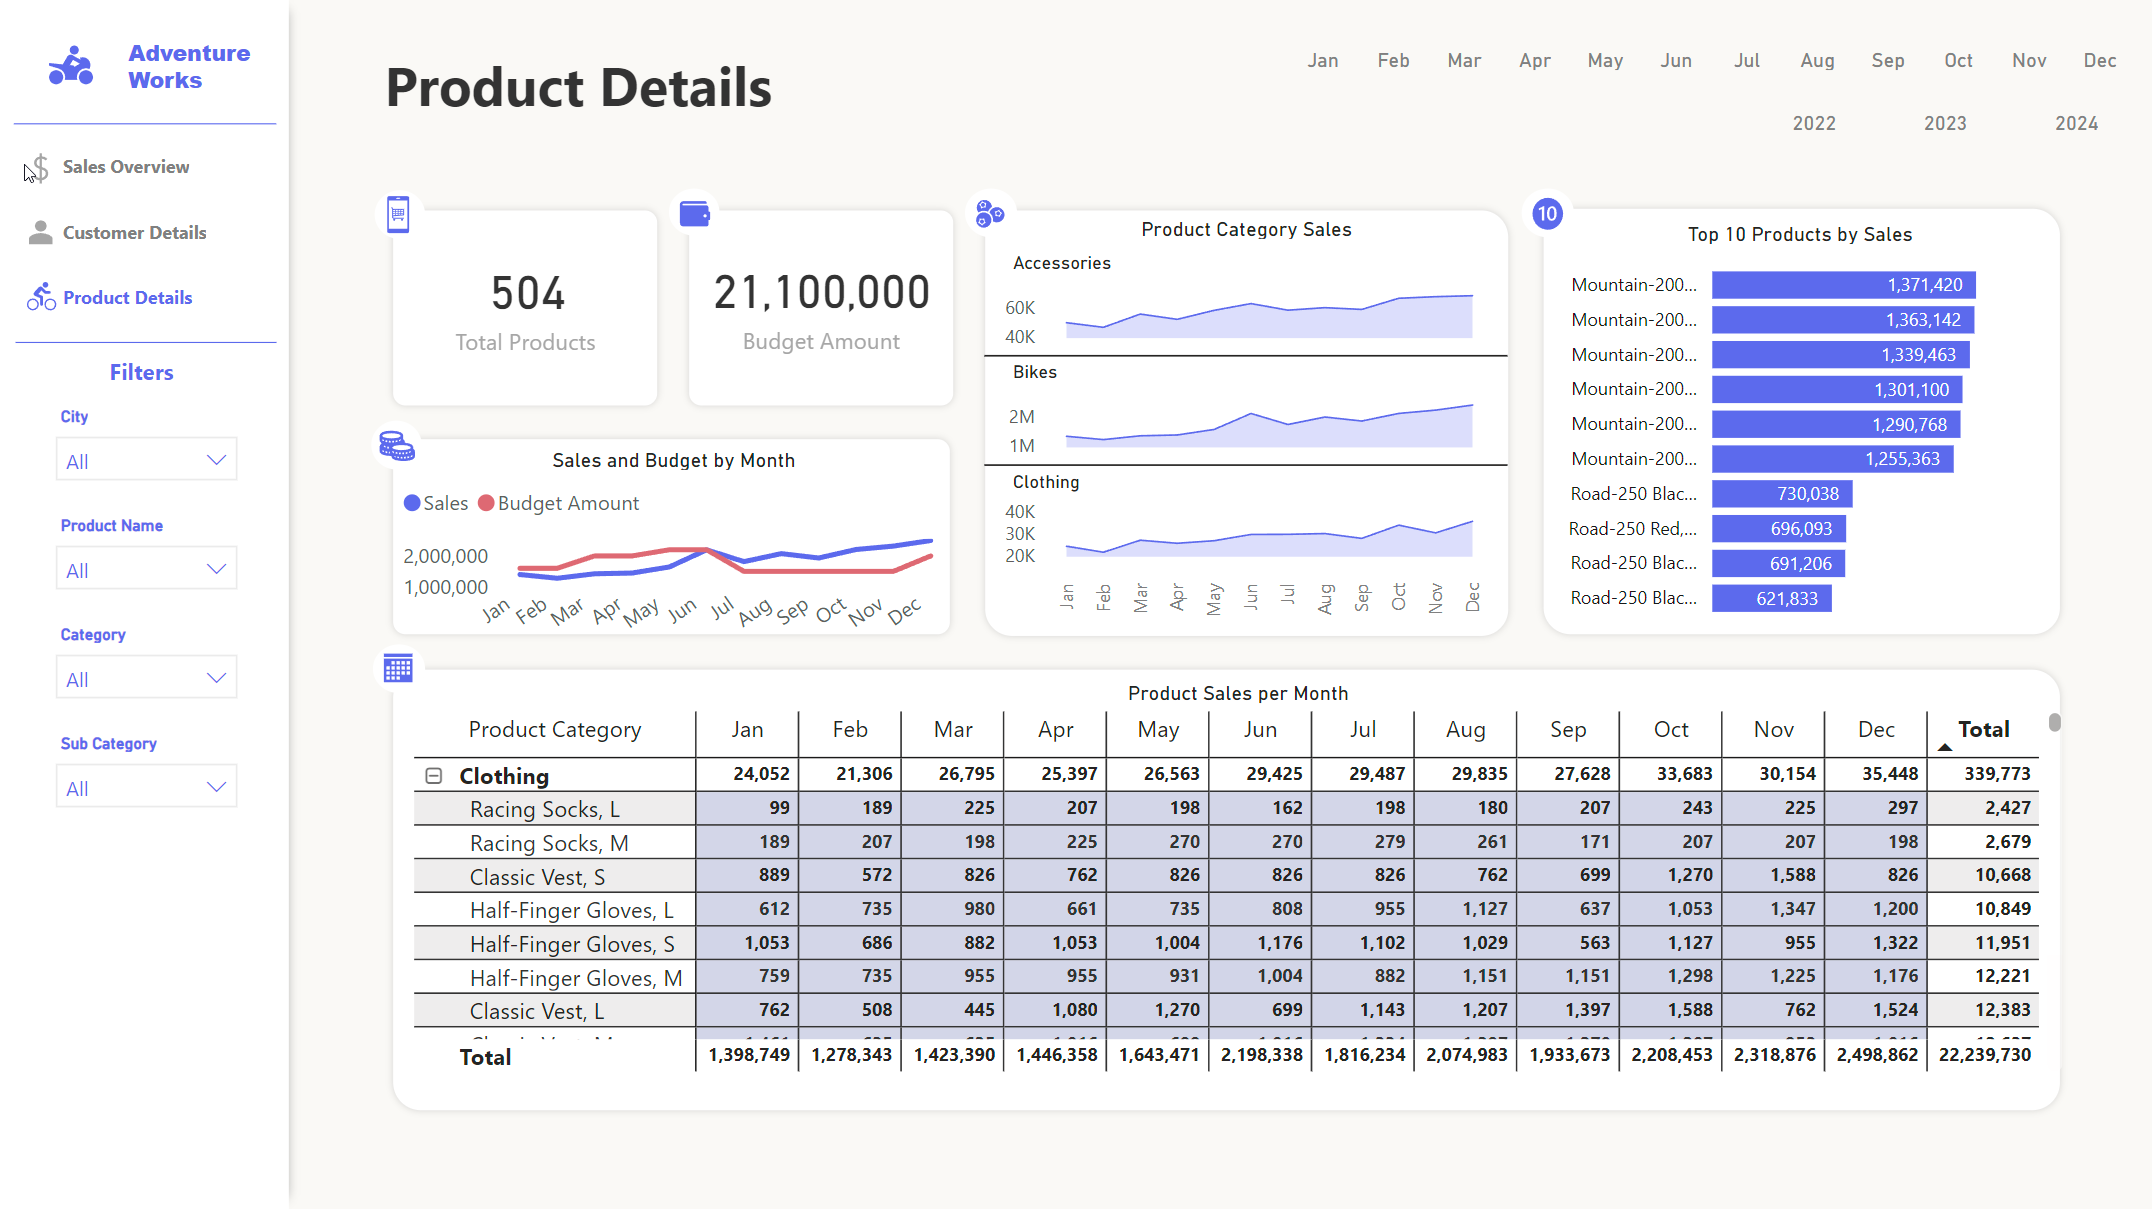

What the dashboard file says about the page in this screenshot:
{"tool":"powerbi","page":{"name":"Product Details","canvas":[1280,720],"ordinal":2},"visuals":[{"type":"shape","box":[389,105.1,156,136.4],"z":0},{"type":"shape","box":[551.6,105.1,347.9,279.4],"z":1000},{"type":"shape","box":[226.5,104.4,156,136.4],"z":2000},{"type":"shape","box":[226.5,247.4,318.5,136.4],"z":3000},{"type":"shape","box":[906,103.8,347.9,279.4],"z":4000},{"type":"shape","box":[226.5,391,1027.4,301.6],"z":5000},{"type":"BBED0A4D4D8D44CE93CF2DAFADEE466C","fields":{"actual":["FACT_InternetSales_CSV.Sales"],"target1":["FACT_Budget.Budget Amount"],"target2":["FACT_Budget.Sales - Budget"]},"box":[554.9,231.2,12.3,12.3],"z":6000},{"type":"lineChart","title":"Sales and Budget by Month","fields":{"Category":["DIM_Calendar_CSV.MonthShort"],"Y":["Key Measures.Sales","Key Measures.Budget Amount"]},"box":[229.1,252.6,311.4,129.2],"z":7000},{"type":"advanceCardE03760C5AB684758B56AA29F9E6C257B","fields":{"mainMeasure":["Count(DIM_Products_CSV.ProductName)"]},"box":[225.8,112.9,157.3,119.4],"z":9000},{"type":"pivotTable","title":"Product Sales per Month","fields":{"Rows":["DIM_Products_CSV.ProductCategory","DIM_Products_CSV.ProductName"],"Columns":["DIM_Calendar_CSV.MonthShort"],"Values":["Key Measures.Sales"]},"box":[229.1,392.9,1018.9,294.4],"z":10000},{"type":"barChart","title":"Top 10 Products by Sales","fields":{"Y":["Key Measures.Sales"],"Category":["DIM_Products_CSV.ProductName"]},"box":[906,104.4,347.9,277.4],"z":11000},{"type":"lineChart","title":"Product Category Sales","fields":{"Y":["Key Measures.Sales"],"Category":["DIM_Calendar_CSV.MonthShort"],"Rows":["DIM_Products_CSV.ProductCategory"]},"box":[554.8,112.9,344.6,270.2],"z":12000},{"type":"advanceCardE03760C5AB684758B56AA29F9E6C257B","fields":{"mainMeasure":["Key Measures.Budget Amount"]},"box":[389,112.9,156.7,120.8],"z":13000},{"type":"shape","box":[0,0,193.9,720],"z":14000},{"type":"shape","box":[31.1,466.1,127.8,58.4],"z":15000},{"type":"shape","box":[31.1,401,127.8,58.4],"z":16000},{"type":"shape","box":[31.1,336.5,127.8,58.4],"z":17000},{"type":"slicer","fields":{"Values":["DIM_Customers_CSV.CustomerCity"]},"box":[31.1,270.7,127.2,58.4],"z":18000},{"type":"slicer","fields":{"Values":["DIM_Products_CSV.SubCategory"]},"box":[30.9,466,127.6,50],"z":19000},{"type":"slicer","fields":{"Values":["DIM_Products_CSV.ProductCategory"]},"box":[30.9,401.2,127.6,50],"z":20000},{"type":"slicer","fields":{"Values":["DIM_Products_CSV.ProductName"]},"box":[30.9,336.3,127.6,50],"z":21000},{"type":"pageNavigator","box":[14.7,101.6,165.3,111.8],"z":23000},{"type":"image","box":[22.4,7.2,44.8,47.2],"z":25000},{"type":"textbox","box":[65.6,9.6,107.2,51.2],"z":26000},{"type":"image","box":[18.9,104.4,26.8,24.8],"z":28000},{"type":"textbox","box":[223.2,24,349.6,60],"z":29000},{"type":"advancedSlicerVisual","fields":{"Values":["DIM_Calendar_CSV.MonthShort"]},"box":[790.4,31,489.6,36.8],"z":30000},{"type":"advancedSlicerVisual","fields":{"Values":["DIM_Calendar_CSV.Year"]},"box":[640,31.8,142.4,36.8],"z":31000},{"type":"shape","box":[763.2,38.2,48.8,26.4],"z":32000},{"type":"shape","box":[31.3,270.9,127.9,58.7],"z":32001},{"type":"textbox","box":[24.9,238.8,133.9,38.7],"z":32002},{"type":"image","box":[19,144,24.6,25.8],"z":32003},{"type":"image","box":[17,176.9,30.7,33.3],"z":32004}]}

Visuals, with their boxes on the page's 1280x720 design canvas (x1, y1, x2, y2). These are canvas units, not pixel positions in the 2152x1209 screenshot, which may show the page scaled, cropped or inside an application window:
shape: box=[389, 105, 545, 242]
shape: box=[552, 105, 900, 384]
shape: box=[226, 104, 382, 241]
shape: box=[226, 247, 545, 384]
shape: box=[906, 104, 1254, 383]
shape: box=[226, 391, 1254, 693]
BBED0A4D4D8D44CE93CF2DAFADEE466C - FACT_InternetSales_CSV.Sales x FACT_Budget.Budget Amount: box=[555, 231, 567, 244]
"Sales and Budget by Month" lineChart: box=[229, 253, 540, 382]
advanceCardE03760C5AB684758B56AA29F9E6C257B - Count(DIM_Products_CSV.ProductName): box=[226, 113, 383, 232]
"Product Sales per Month" pivotTable: box=[229, 393, 1248, 687]
"Top 10 Products by Sales" barChart: box=[906, 104, 1254, 382]
"Product Category Sales" lineChart: box=[555, 113, 899, 383]
advanceCardE03760C5AB684758B56AA29F9E6C257B - Key Measures.Budget Amount: box=[389, 113, 546, 234]
shape: box=[0, 0, 194, 720]
shape: box=[31, 466, 159, 524]
shape: box=[31, 401, 159, 459]
shape: box=[31, 336, 159, 395]
slicer - DIM_Customers_CSV.CustomerCity: box=[31, 271, 158, 329]
slicer - DIM_Products_CSV.SubCategory: box=[31, 466, 158, 516]
slicer - DIM_Products_CSV.ProductCategory: box=[31, 401, 158, 451]
slicer - DIM_Products_CSV.ProductName: box=[31, 336, 158, 386]
pageNavigator: box=[15, 102, 180, 213]
image: box=[22, 7, 67, 54]
textbox: box=[66, 10, 173, 61]
image: box=[19, 104, 46, 129]
textbox: box=[223, 24, 573, 84]
advancedSlicerVisual - DIM_Calendar_CSV.MonthShort: box=[790, 31, 1280, 68]
advancedSlicerVisual - DIM_Calendar_CSV.Year: box=[640, 32, 782, 69]
shape: box=[763, 38, 812, 65]
shape: box=[31, 271, 159, 330]
textbox: box=[25, 239, 159, 278]
image: box=[19, 144, 44, 170]
image: box=[17, 177, 48, 210]
